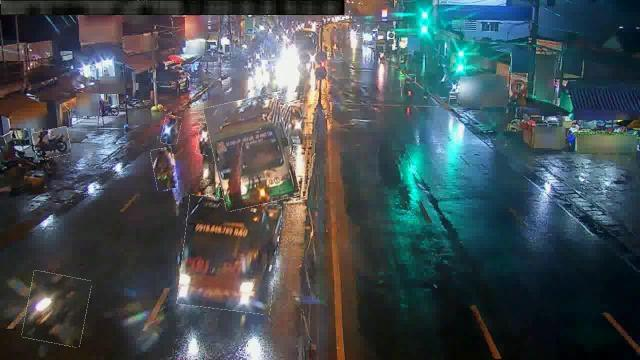Bike: (24, 272, 90, 346), (34, 128, 70, 158), (152, 148, 176, 190), (197, 123, 217, 155), (162, 115, 180, 144), (400, 76, 416, 99)
Bus: (209, 96, 295, 208)
Car: (290, 105, 306, 140)
Truck: (180, 198, 280, 312)
